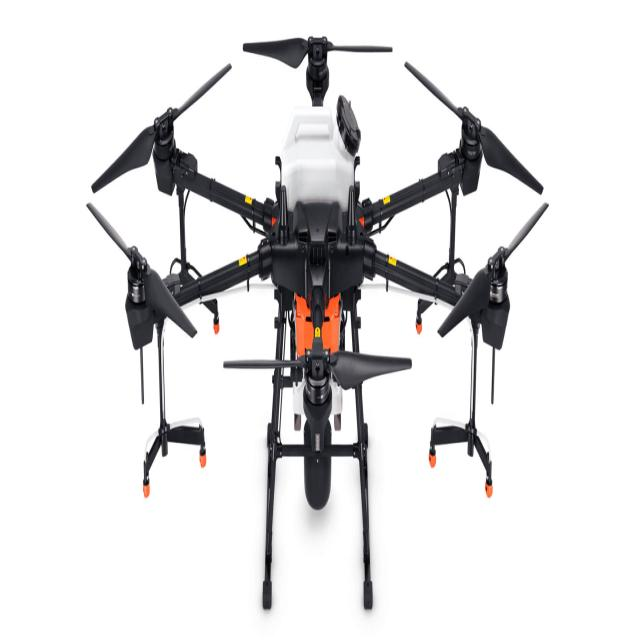drone: (75, 0, 547, 616)
